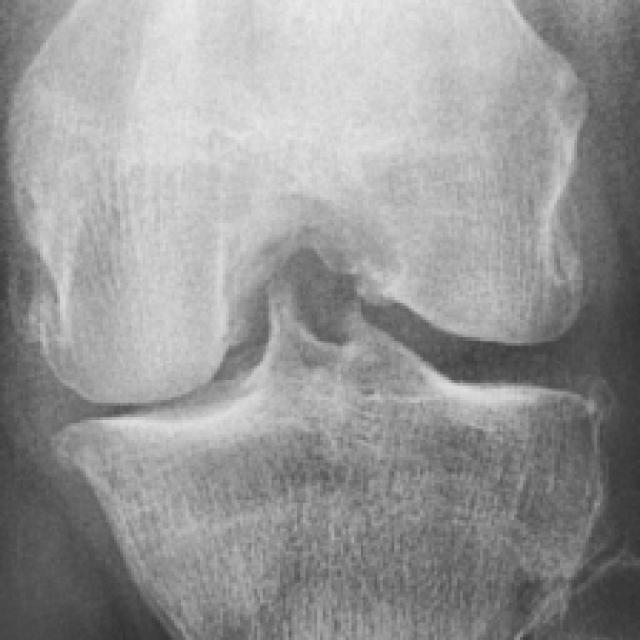femur: (9, 1, 584, 400)
tibia: (59, 287, 596, 638)
